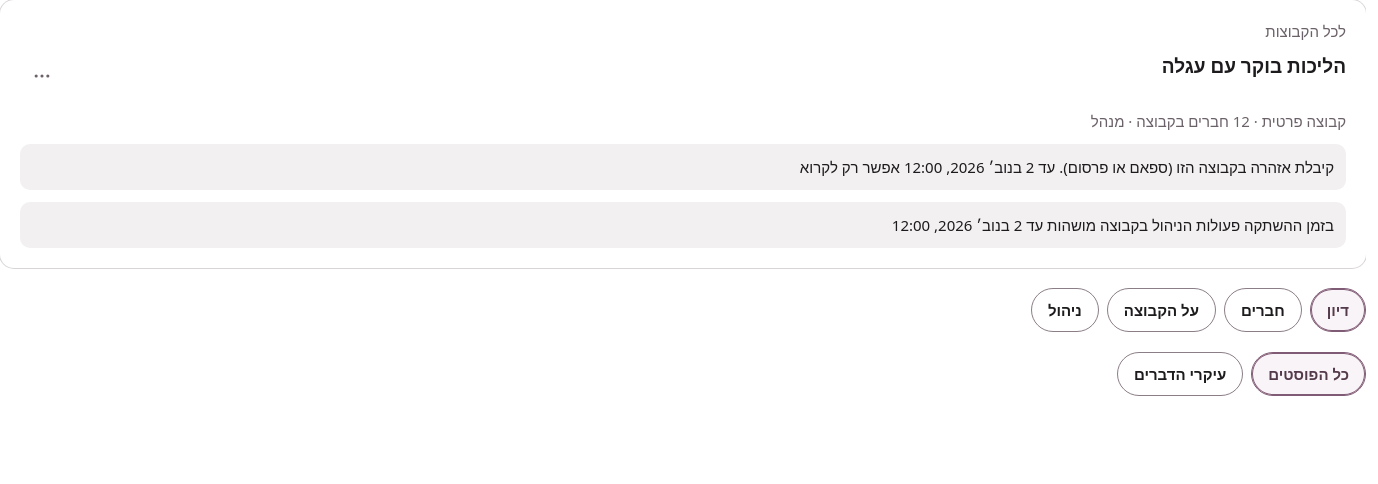
Test: [FR-GRP-003 OP-070 AC-185 PG-035] a muted Group manager › [AC-185] the management tab holds only the enforcement history: no requests, invitations, blocked list or details are asked for or shown
The width and height of the screenshot is (1378, 484).
Click the tab "ניהול".
click(1065, 310)  # box [1031, 288, 1099, 332]
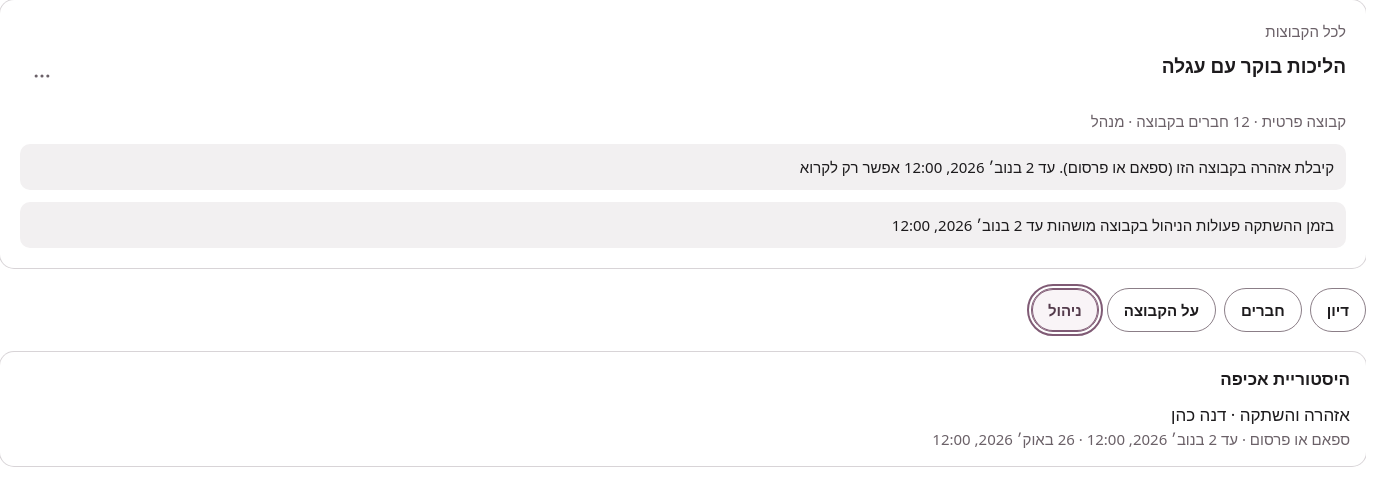
Check: the element "היסטוריית אכיפה" is shown, box [0, 352, 1366, 466]
